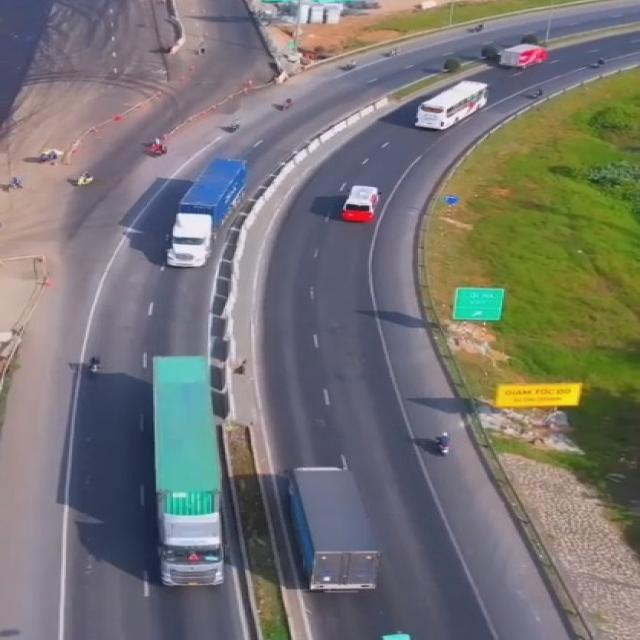bus: (411, 77, 489, 130), (340, 185, 381, 227)
motorbike: (433, 430, 452, 456), (86, 353, 103, 375)
truck: (151, 354, 225, 590), (286, 461, 382, 592), (170, 158, 249, 271), (501, 41, 549, 71)
